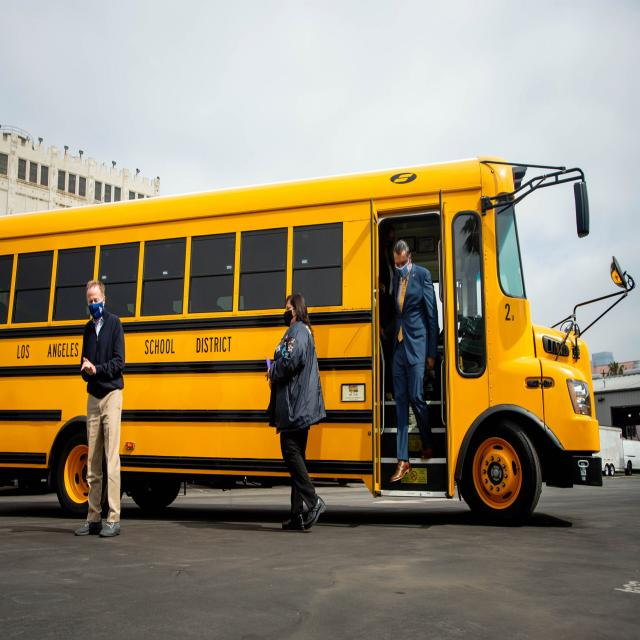bus: (0, 115, 622, 542)
